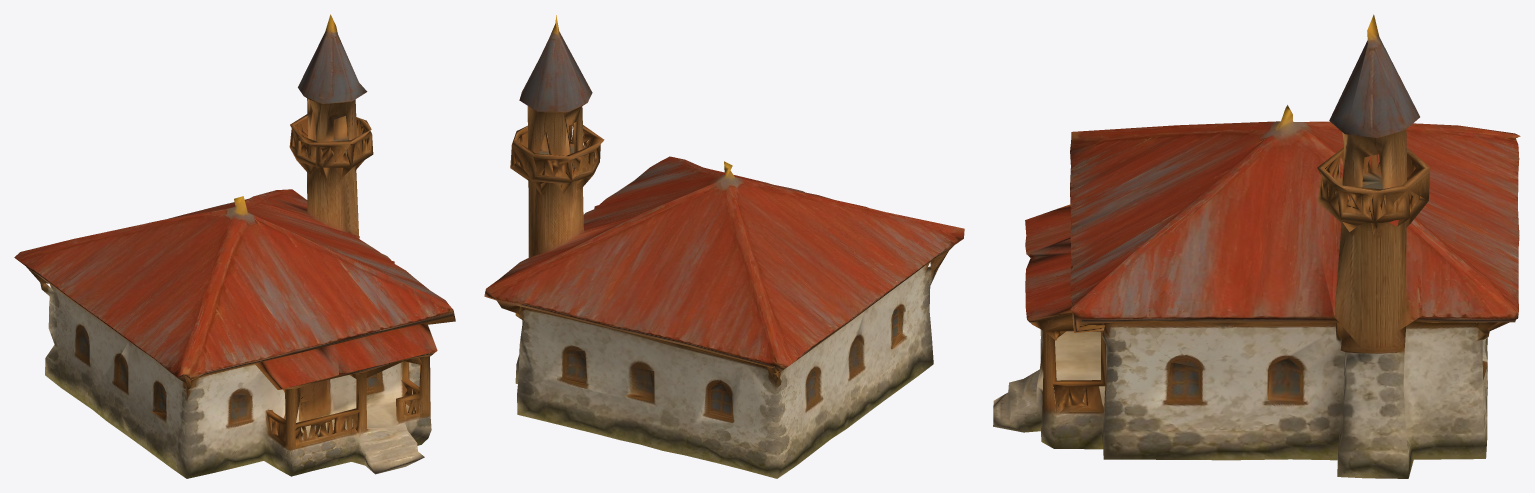
The model's file is cami.glb.
3 renders of one model, left to right at view 1: azimuth 30°, elevation 25°; view 2: azimuth 150°, elevation 25°; view 3: azimuth 270°, elevation 25°, orthographic. The views are drawn at different scales.
Visible parts, largest first — view 1: tripo_node_16cfc875-4f93-435e-87cd-de2b95383cd8; view 2: tripo_node_16cfc875-4f93-435e-87cd-de2b95383cd8; view 3: tripo_node_16cfc875-4f93-435e-87cd-de2b95383cd8.
Part boxes in pixels (bbox=[...]): tripo_node_16cfc875-4f93-435e-87cd-de2b95383cd8: bbox=[14, 14, 455, 478]; tripo_node_16cfc875-4f93-435e-87cd-de2b95383cd8: bbox=[484, 15, 964, 478]; tripo_node_16cfc875-4f93-435e-87cd-de2b95383cd8: bbox=[993, 14, 1520, 478].
Size of the model in its own units: 0.8724 by 0.9258 by 0.9826.
Materials: 1 (1 with a texture image).
